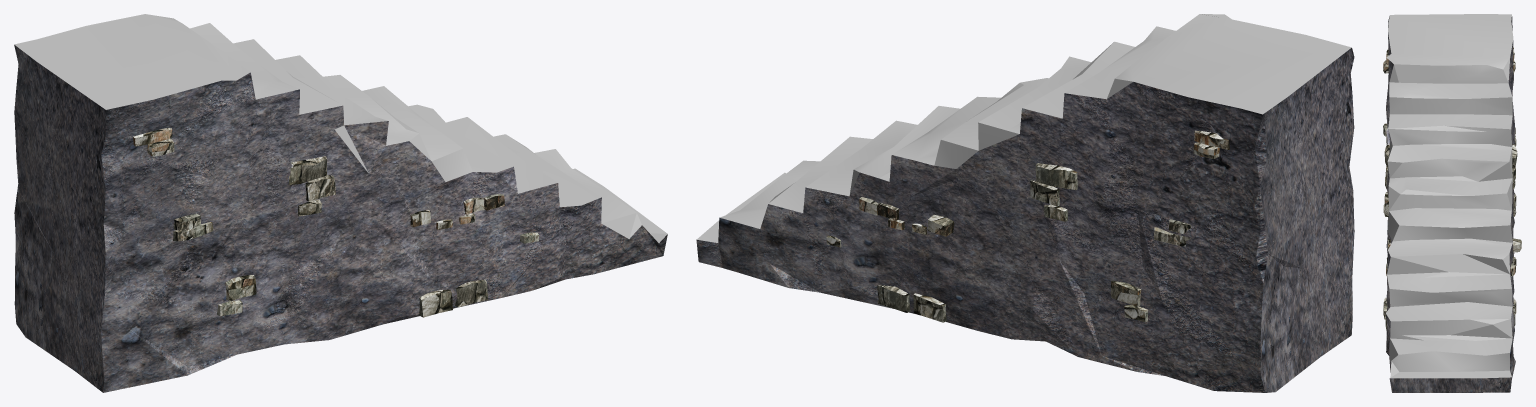
File: EscaleraPiedra.fbx
3 renders of one model, left to right at view 1: azimuth 30°, elevation 25°; view 2: azimuth 150°, elevation 25°; view 3: azimuth 270°, elevation 25°, orthographic. The views are drawn at different scales.
Visible parts, largest first — view 1: Object065; view 2: Object065; view 3: Object065.
Boxes of the visible parts, bbox=[...] form: Object065: bbox=[14, 14, 667, 392]; Object065: bbox=[696, 14, 1354, 392]; Object065: bbox=[1383, 14, 1521, 392].
Bounding box in the file's own units: 0.9581 × 0.4596 × 0.2997.
